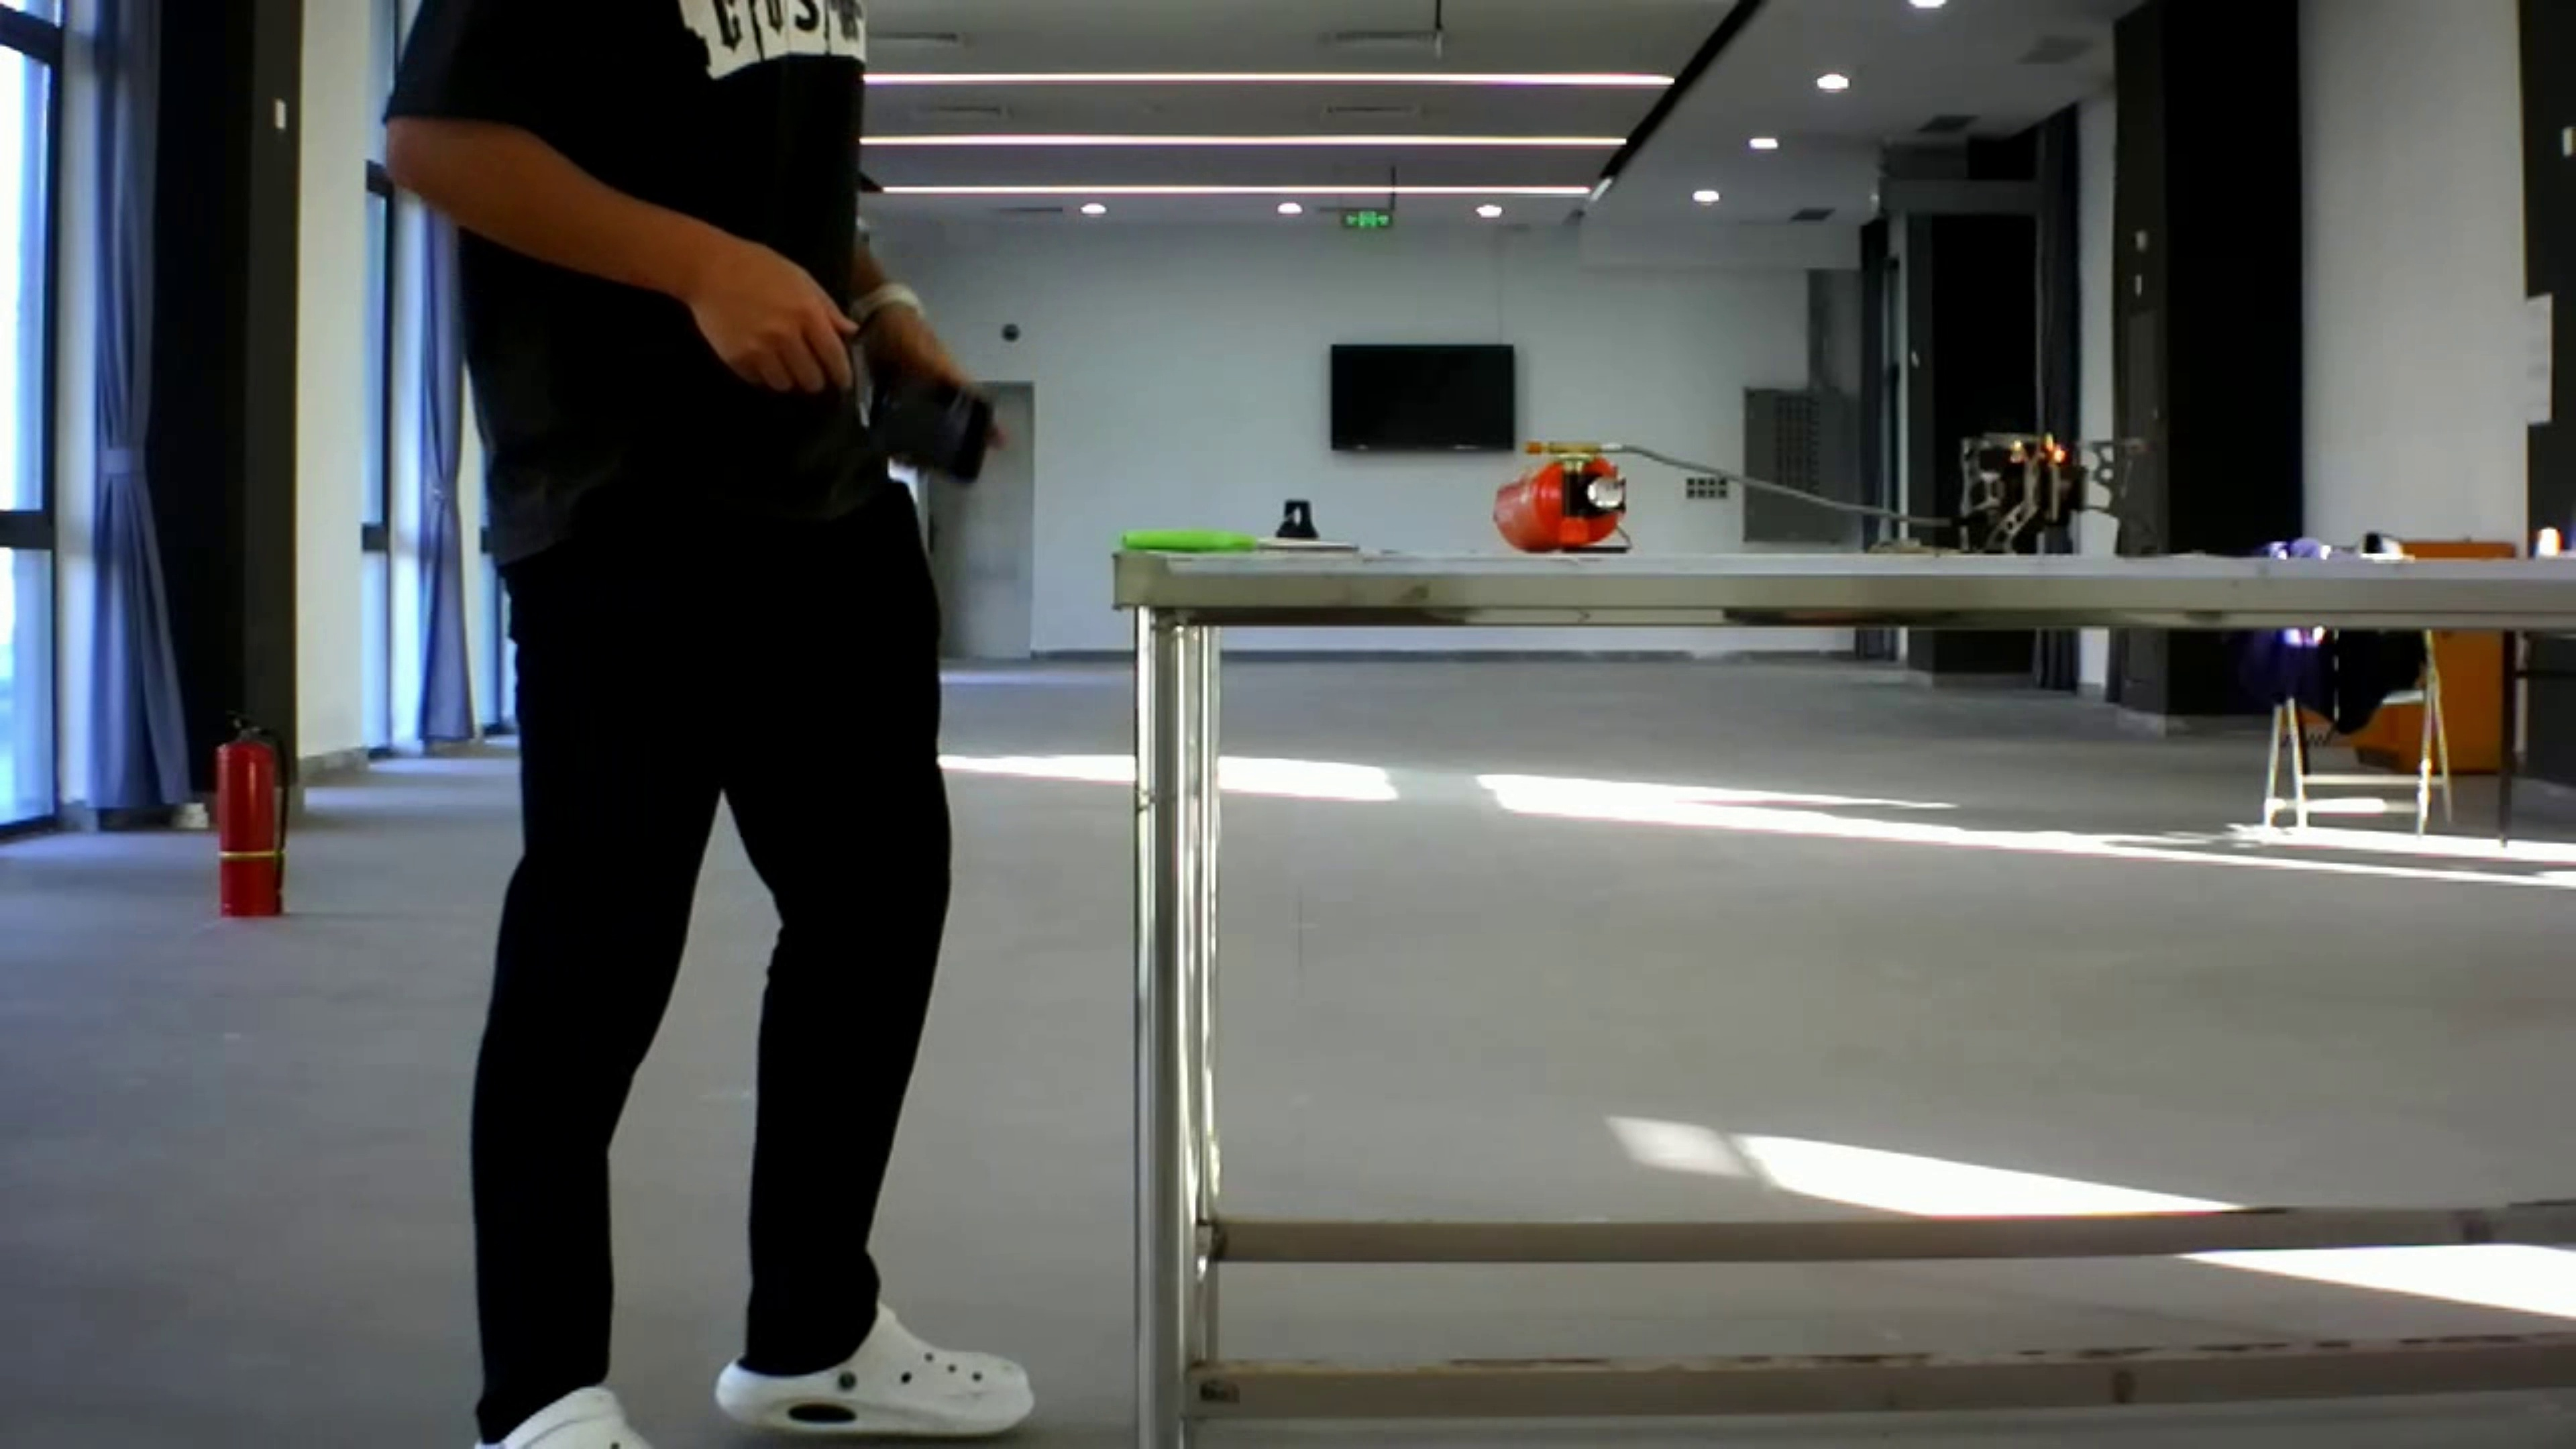Fire: (1987, 410, 2102, 492)
